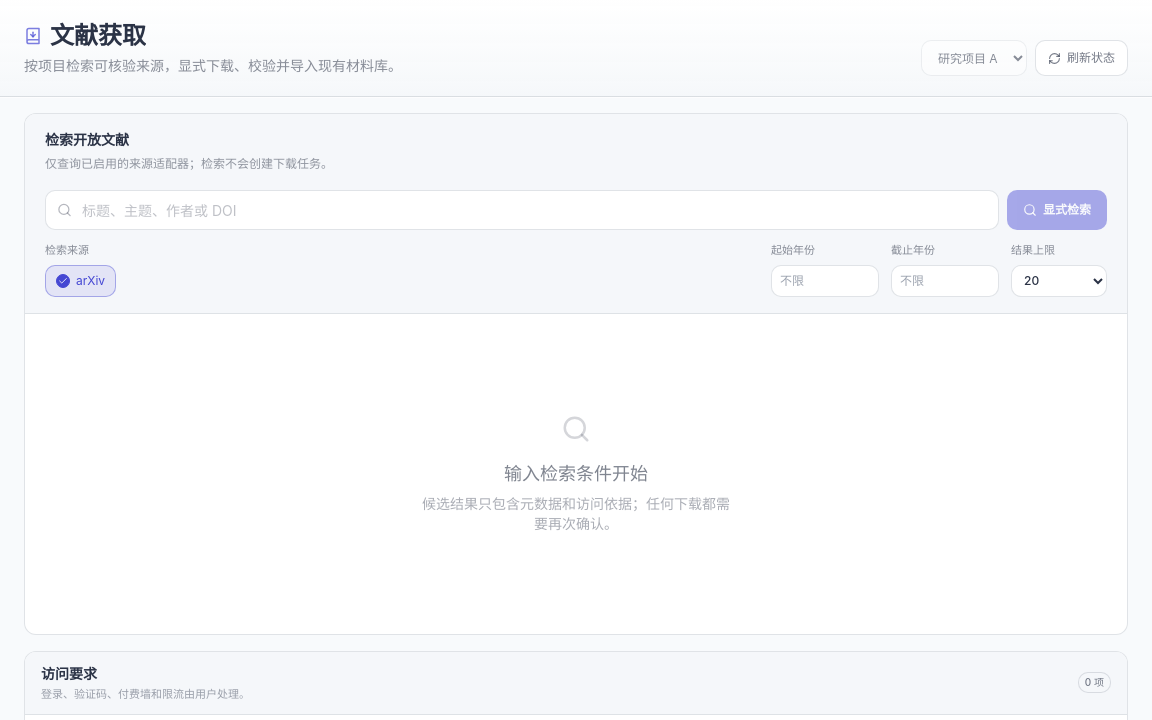
Test: LiteratureAcquisition › does not present a completed legacy receipt as verified or openable
This screenshot has width=1152, height=720.
Type "retrieval augmented generation" into the field with placeholder "标题、主题、作者或 DOI" at point(522, 210), box [45,190,999,230]
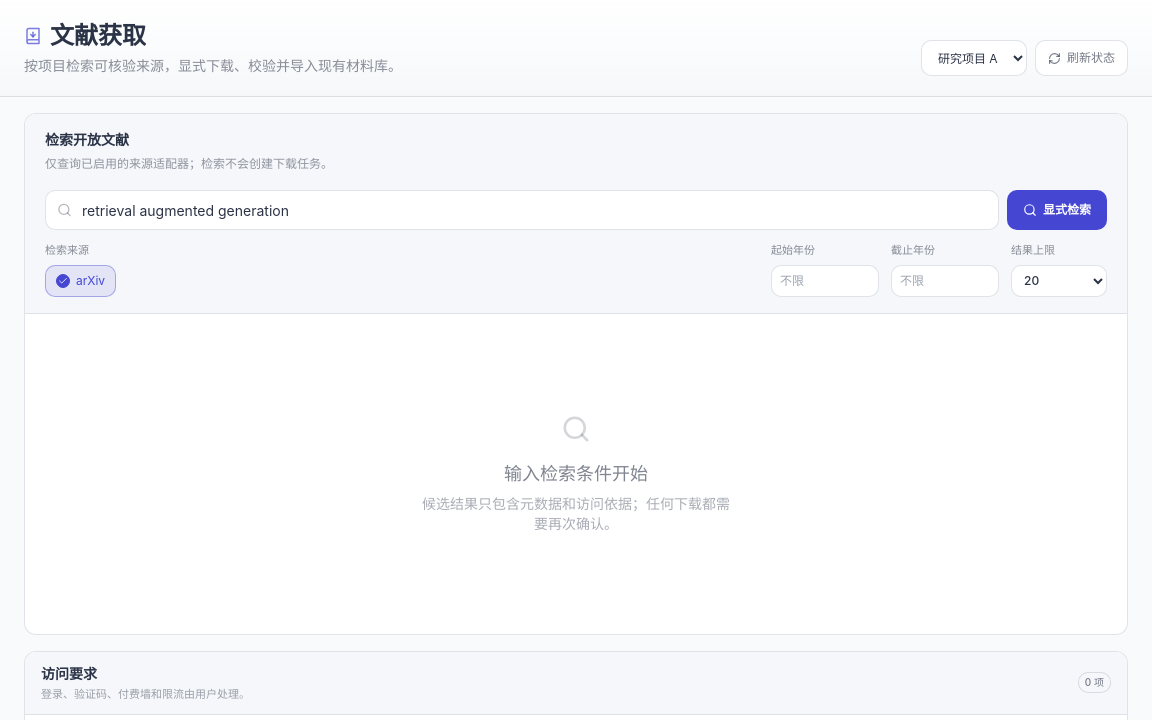
Click the button "显式检索" at point(1057, 210), box [1007,190,1107,230]
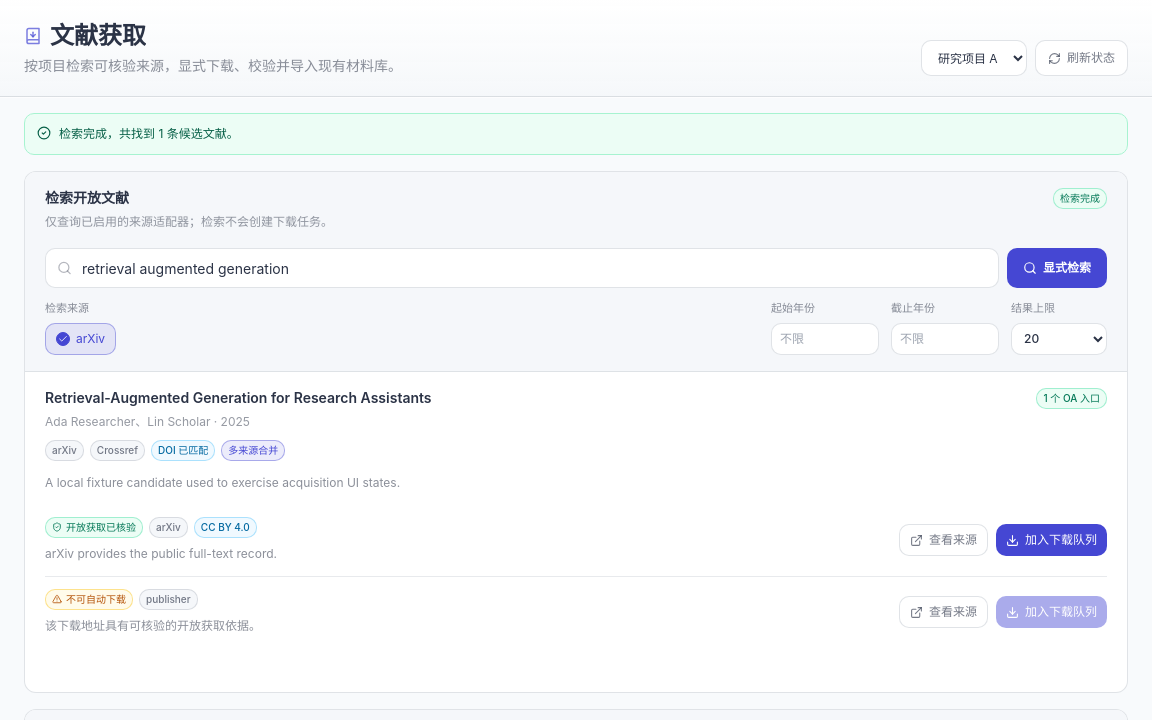
Click the button "加入下载队列" in the row of "CC BY 4.0" at point(1052, 540), box [996,524,1107,556]
(page scrolled)
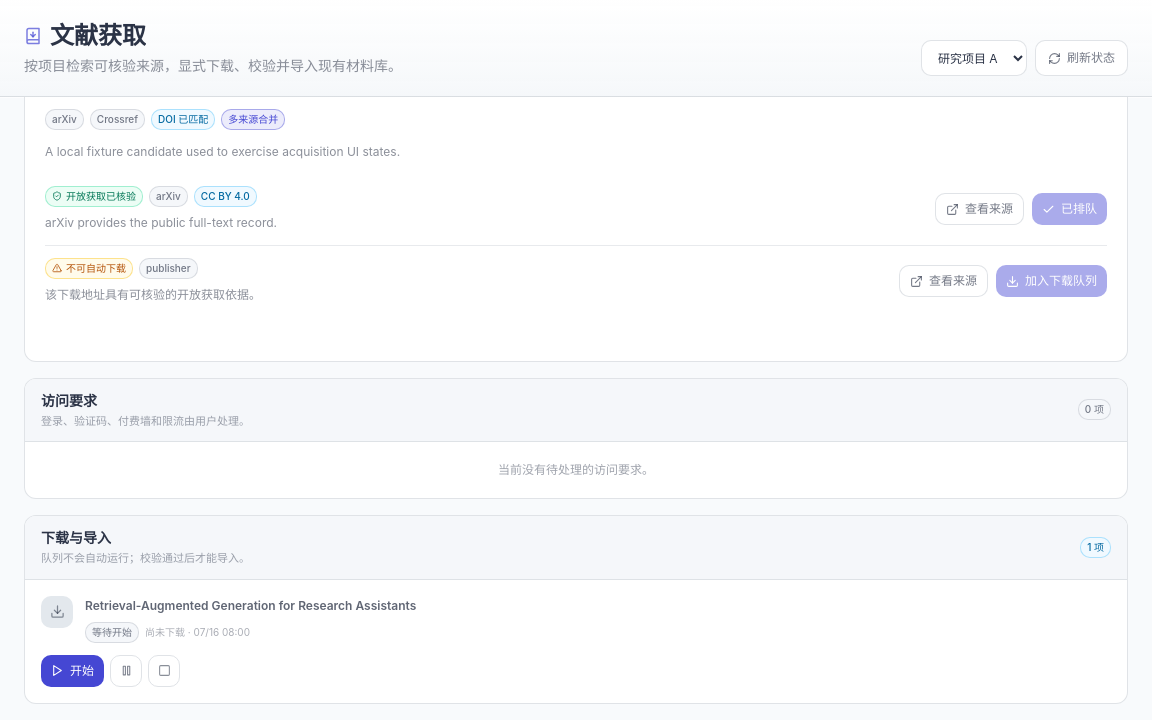
Click the button "开始" at point(72, 670), box [41,654,104,686]
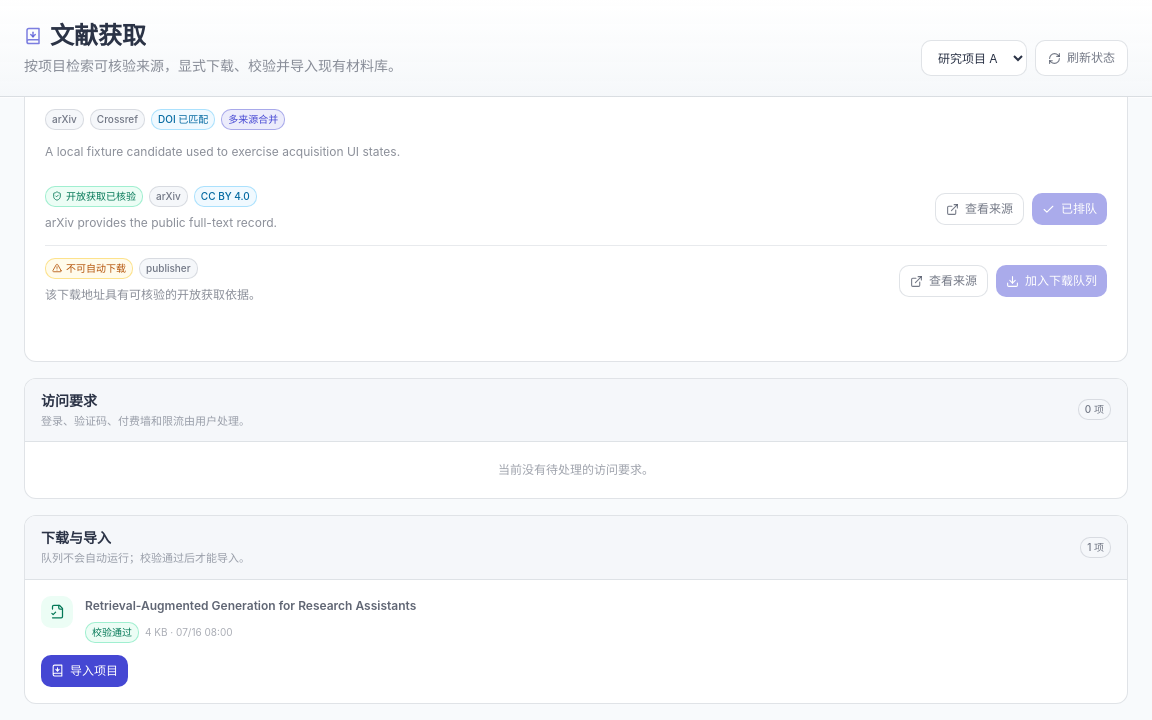
Click the button "导入项目" at point(84, 670), box [41,654,128,686]
(page scrolled)
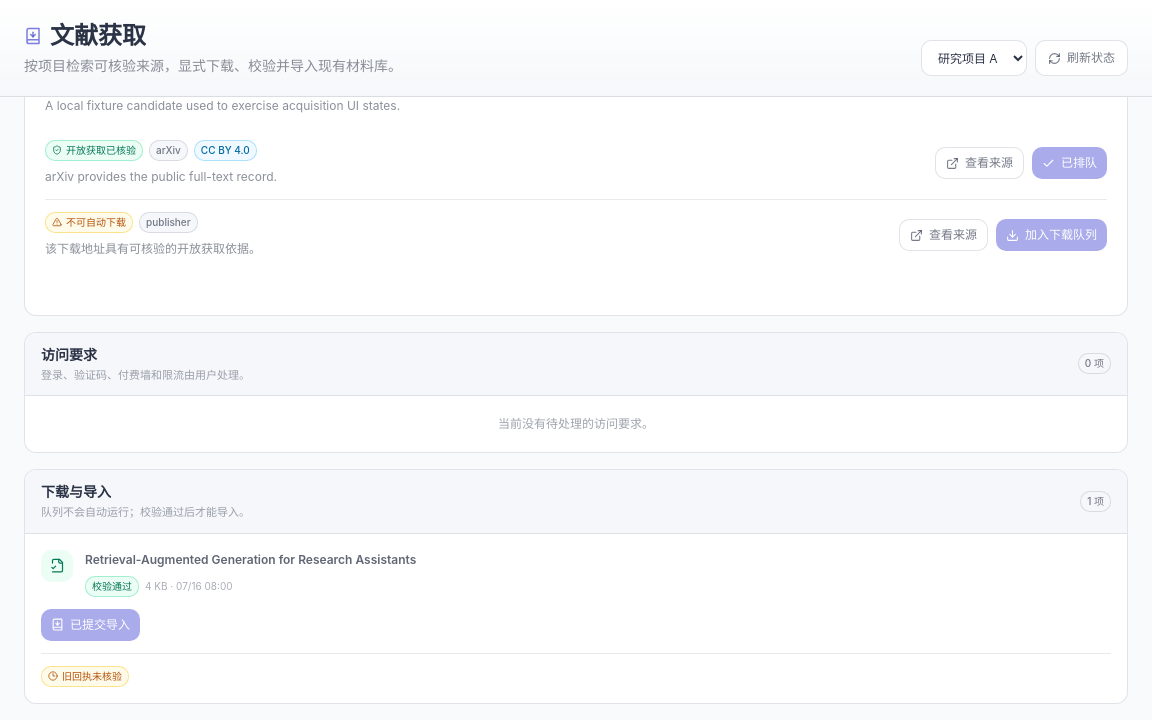
Result: the text "旧回执未核验" is shown at [62,668,122,684]
